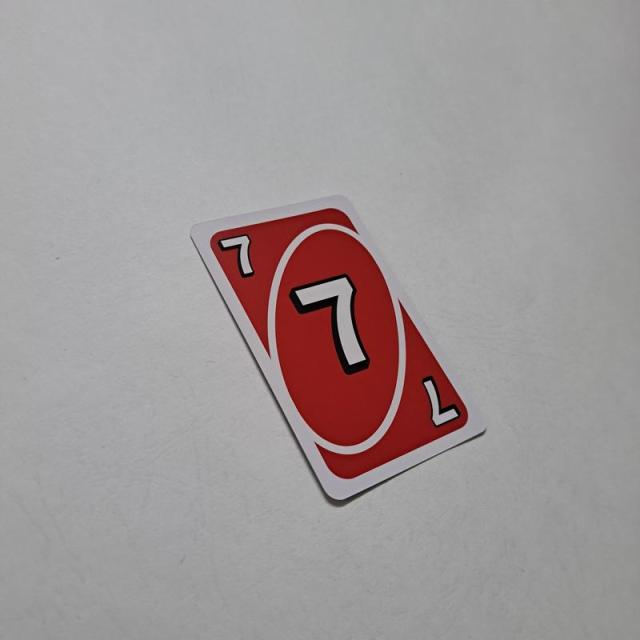Number_7: (216, 233, 258, 280)
Red_Card: (206, 200, 473, 486)
